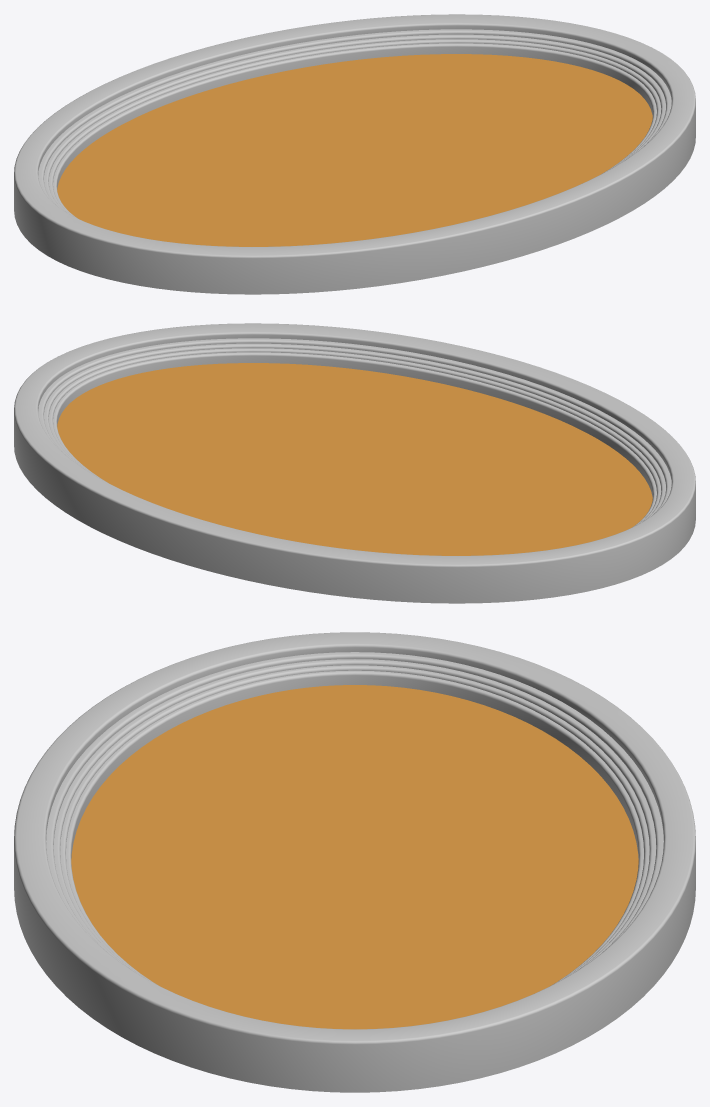
Rendered from 운동장.fbx.
3 renders of one model, top to bottom at view 1: azimuth 30°, elevation 25°; view 2: azimuth 150°, elevation 25°; view 3: azimuth 270°, elevation 25°, orthographic. The views are drawn at different scales.
Parts seen in each view (by area): view 1: Cylinder_3, Cylinder_2; view 2: Cylinder_3, Cylinder_2; view 3: Cylinder_3, Cylinder_2.
Boxes of the visible parts, x1=… form: Cylinder_3: x1=57, y1=54, x2=652, y2=246; Cylinder_2: x1=14, y1=14, x2=695, y2=294; Cylinder_3: x1=57, y1=363, x2=652, y2=555; Cylinder_2: x1=14, y1=323, x2=695, y2=603; Cylinder_3: x1=71, y1=685, x2=638, y2=1029; Cylinder_2: x1=14, y1=632, x2=695, y2=1092.
Size of the model in its own units: 3470 by 226 by 2435.
